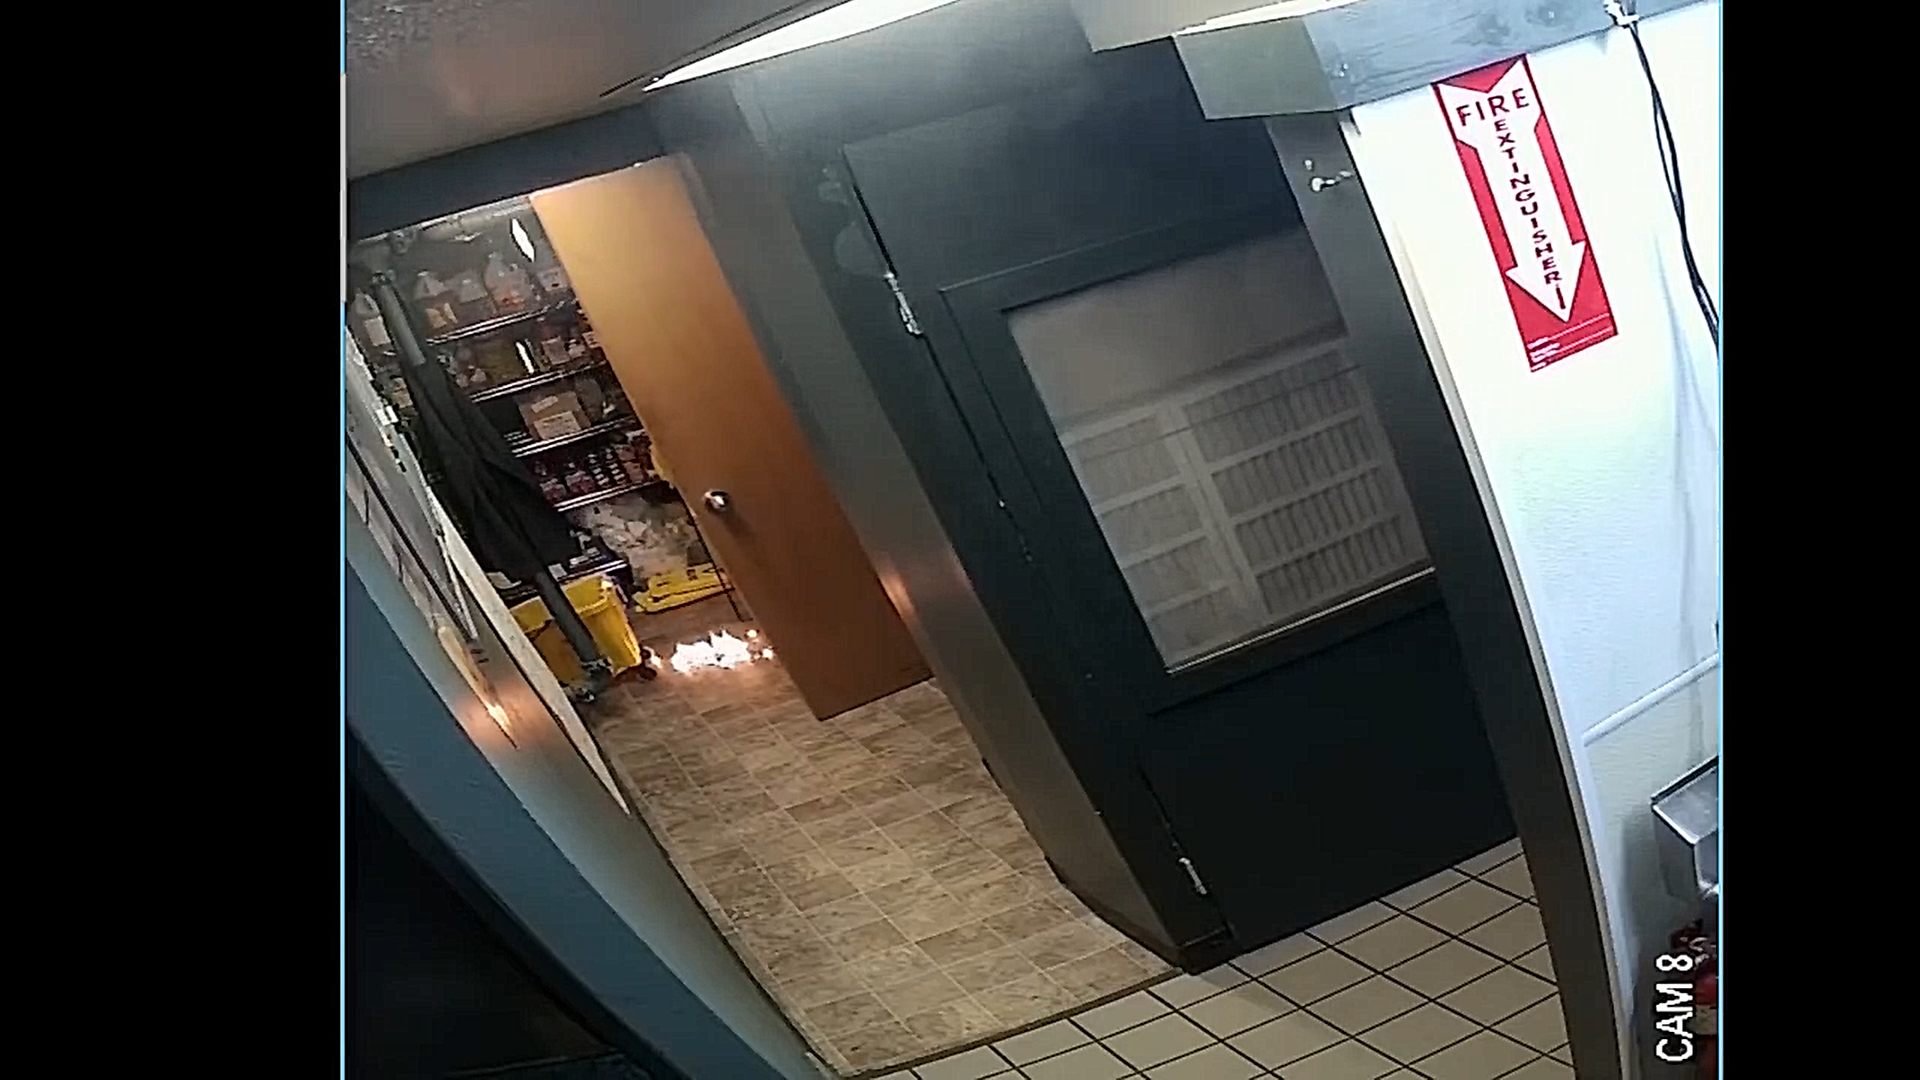fire: (641, 632, 789, 682)
